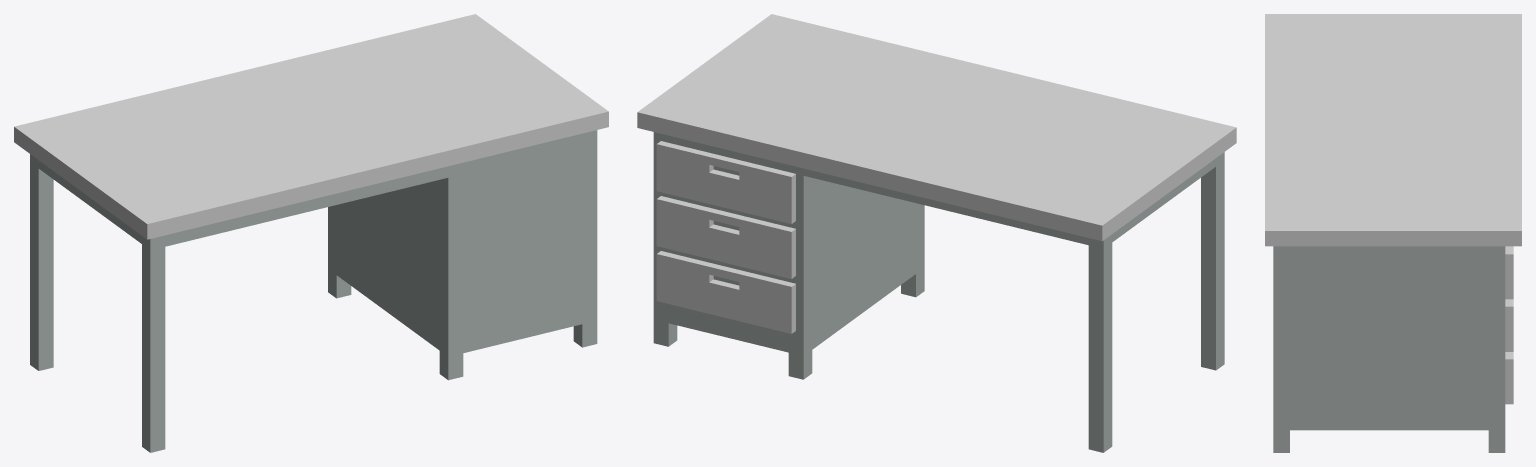
File: table_06.glb
3 renders of one model, left to right at view 1: azimuth 30°, elevation 25°; view 2: azimuth 150°, elevation 25°; view 3: azimuth 270°, elevation 25°, orthographic. The views are drawn at different scales.
Parts seen in each view (by area): view 1: Untitled; view 2: Untitled; view 3: Untitled.
Boxes of the visible parts, bbox=[...] form: Untitled: bbox=[14, 14, 608, 452]; Untitled: bbox=[637, 14, 1236, 452]; Untitled: bbox=[1265, 14, 1521, 452].
Bounding box in the file's own units: 1.86 × 0.9 × 0.93.
1 material, 1 textured.
